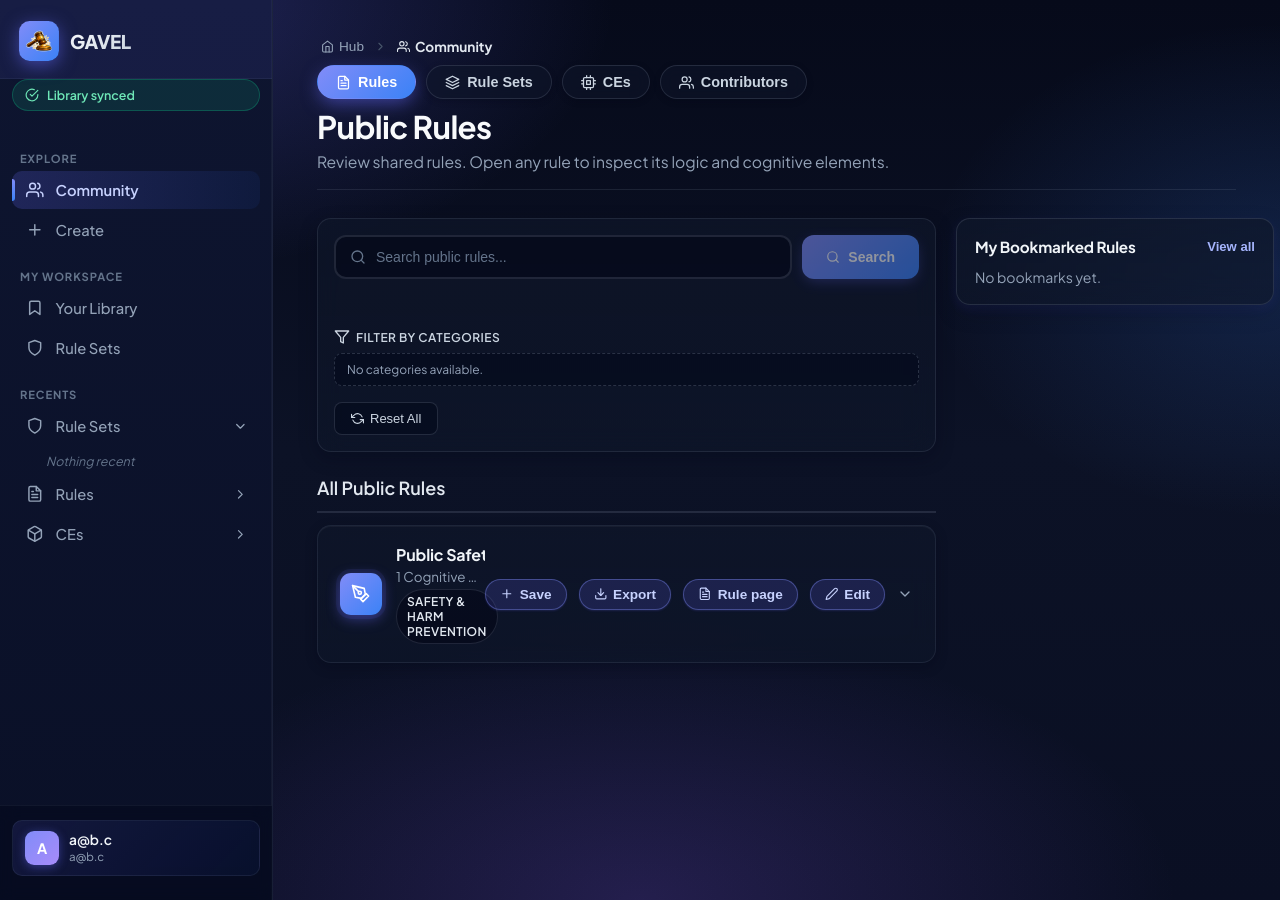
it: Browse — bookmark on a public rule › adds a bookmark and shows a Saved alert
Expected: the heading "Public Safety Rule Public" is shown, left=396, top=544, right=485, bottom=565
Click the button with aria-label "Bookmark rule" at point(526, 594), box left=485, top=578, right=566, bottom=610
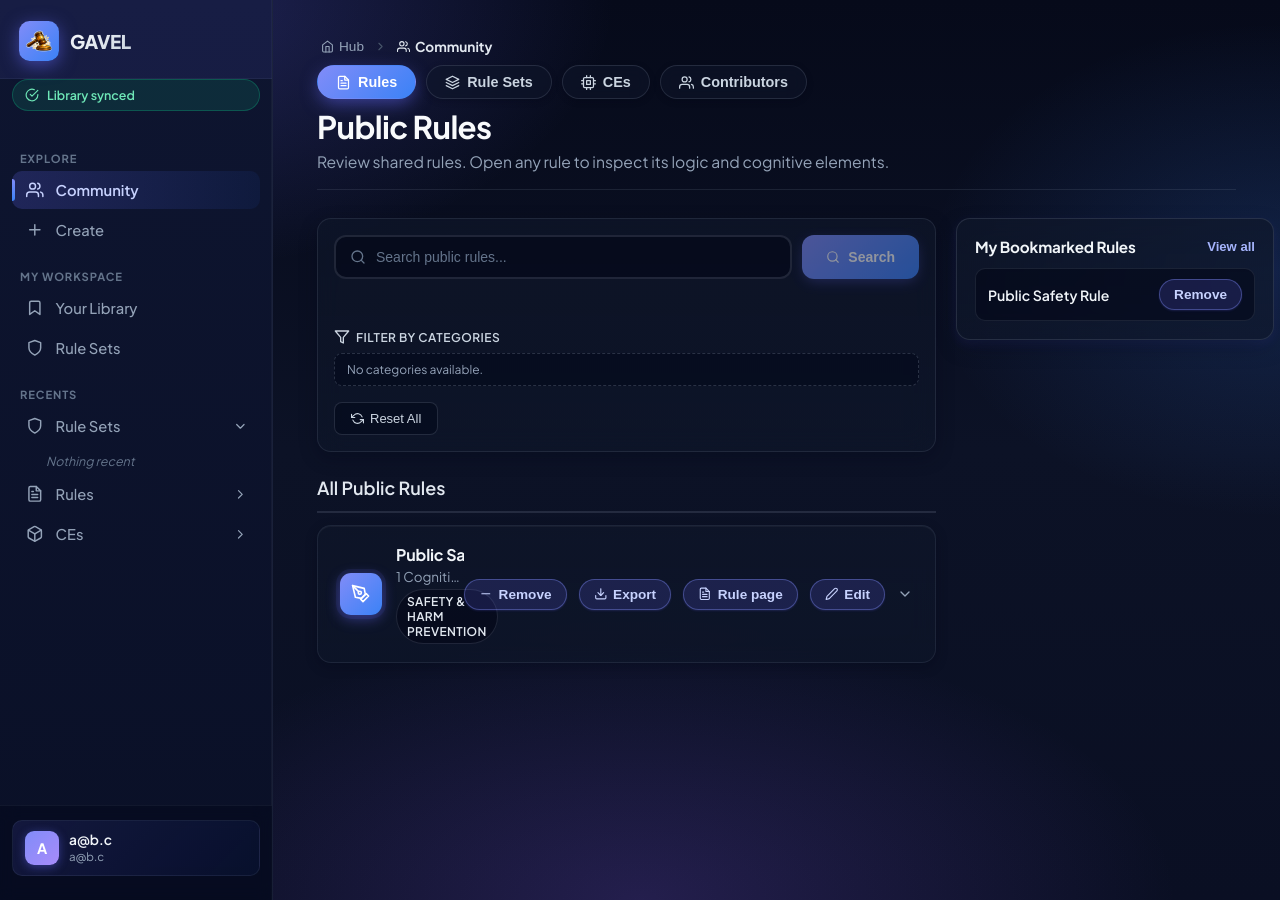
Expected: the text "Public Safety Rule" is shown, left=988, top=286, right=1109, bottom=304
